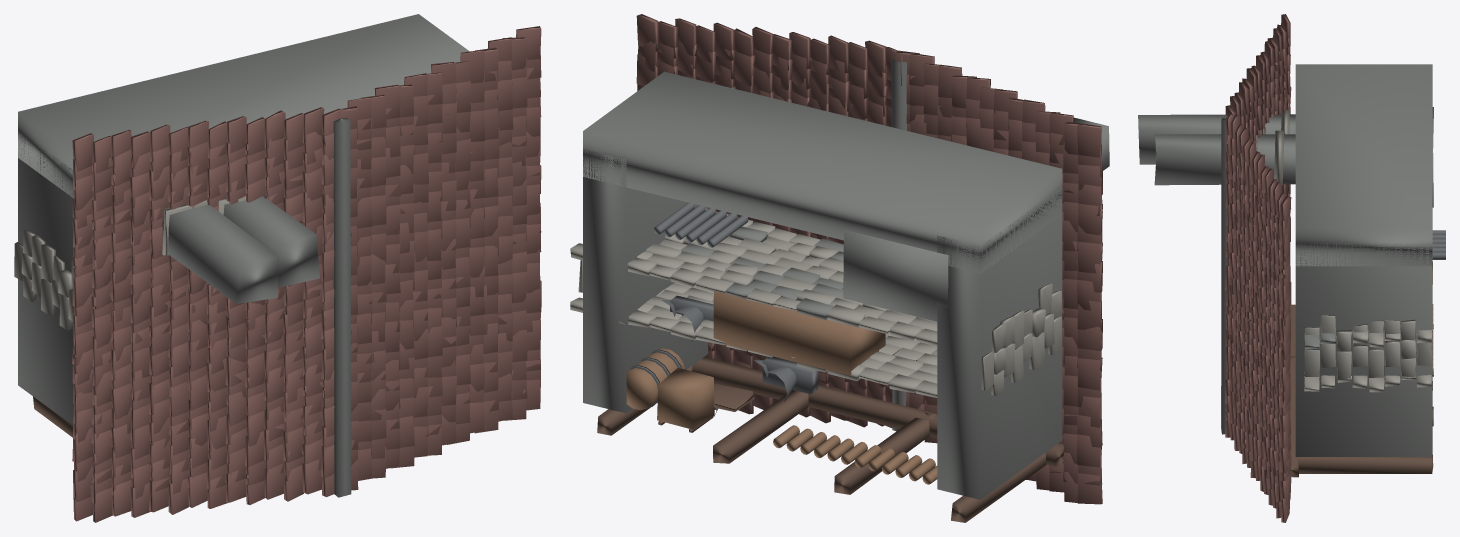
File: blacksmith_open_forge_hd.glb
3 views of the same model, side by side, from view 1: azimuth 30°, elevation 25°; view 2: azimuth 150°, elevation 25°; view 3: azimuth 270°, elevation 25° (orthographic). The views are drawn at different scales.
Size of the model in its own units: 9.57 by 7.55 by 6.52.
